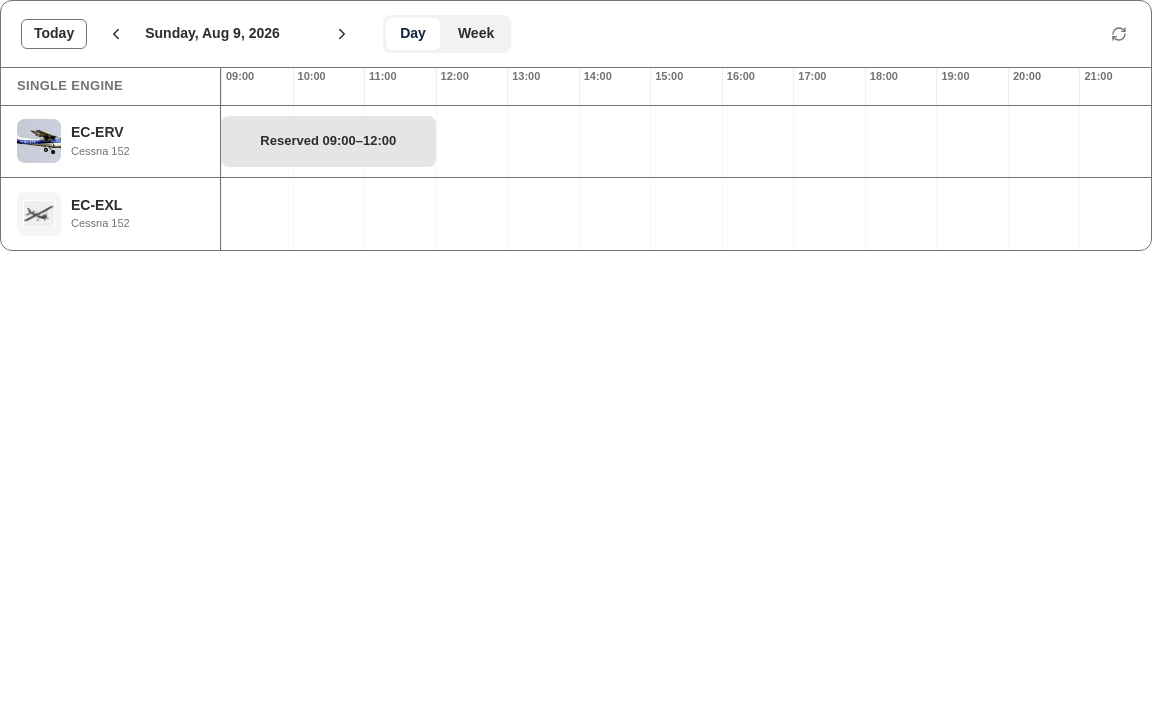
Test: ScheduleBoard › opens a detail modal with the time, aircraft and label when a day-view block is clicked
The width and height of the screenshot is (1152, 720).
Click the button "Reserved 09:00–12:00": (328, 141) x1=221 y1=116 x2=436 y2=167
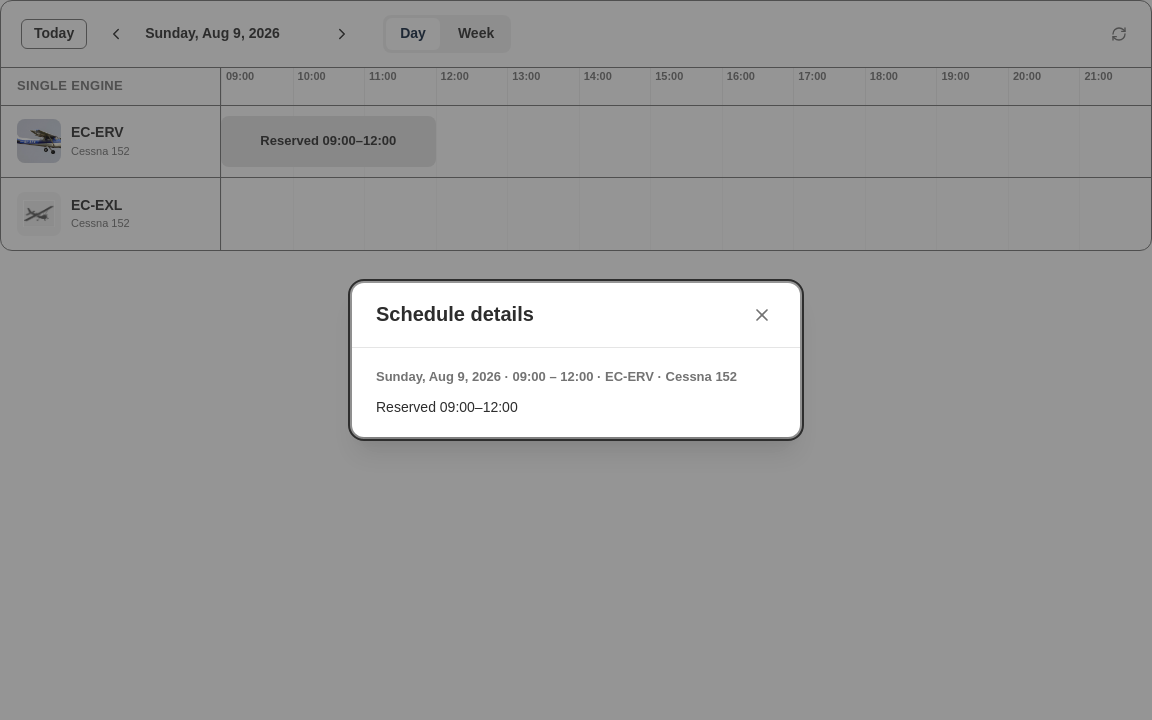
expect the heading "Schedule details" is shown: met, box x1=376 y1=301 x2=534 y2=327
expect the text "Sunday, Aug 9, 2026 · 09:00 – 12:00 · EC-ERV · Cessna 152" is shown: met, box x1=376 y1=368 x2=776 y2=386
Click the button named "Close": (762, 315) x1=748 y1=301 x2=776 y2=329
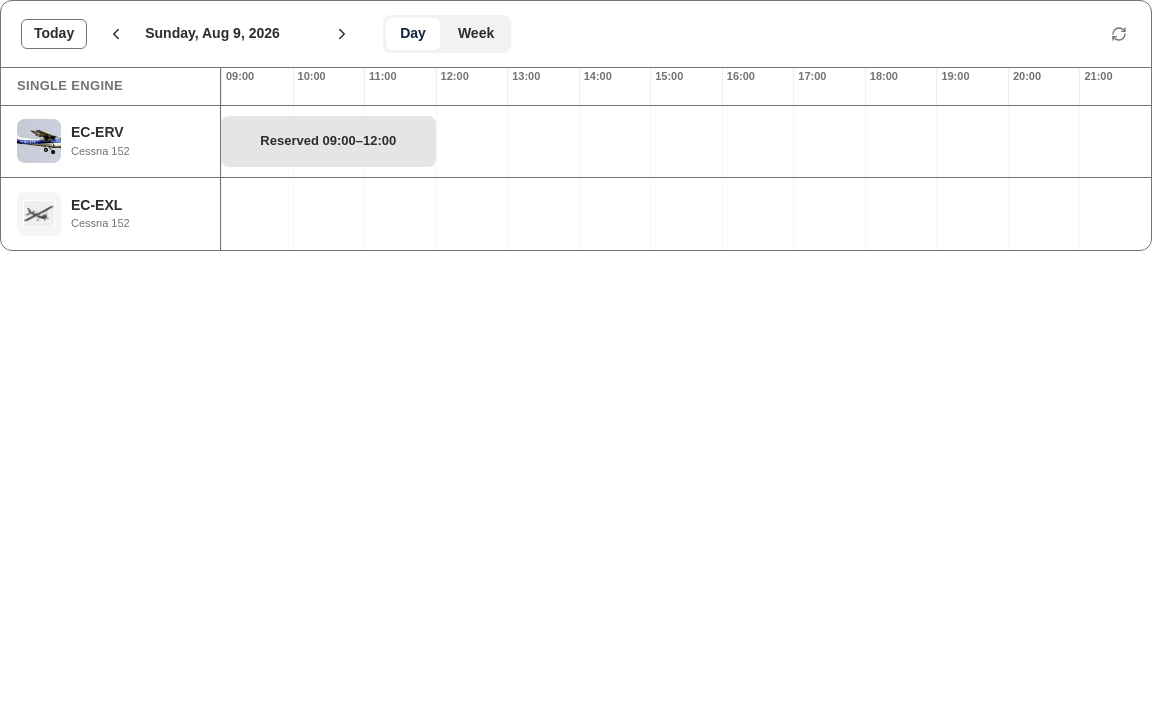
expect the heading "Schedule details" is gone: met
